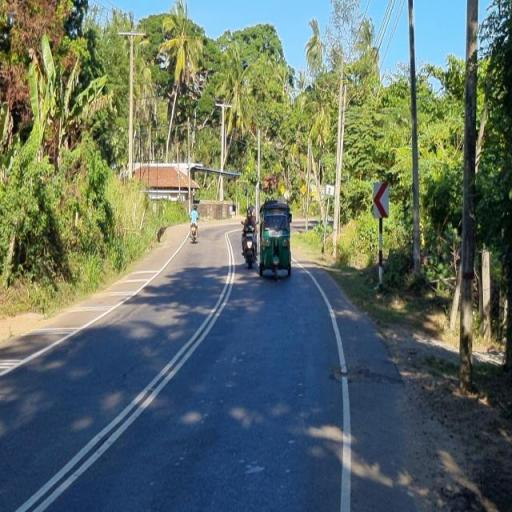double_white_line: (14, 226, 240, 510)
